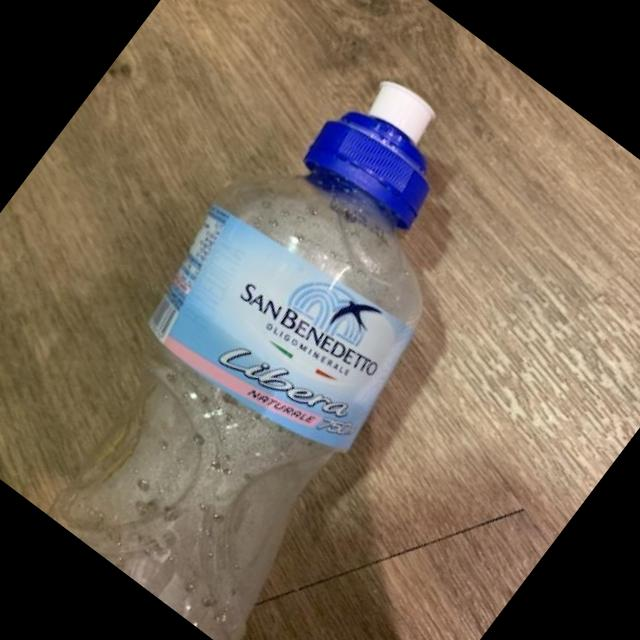BotolPlastik: (1, 31, 578, 640)
